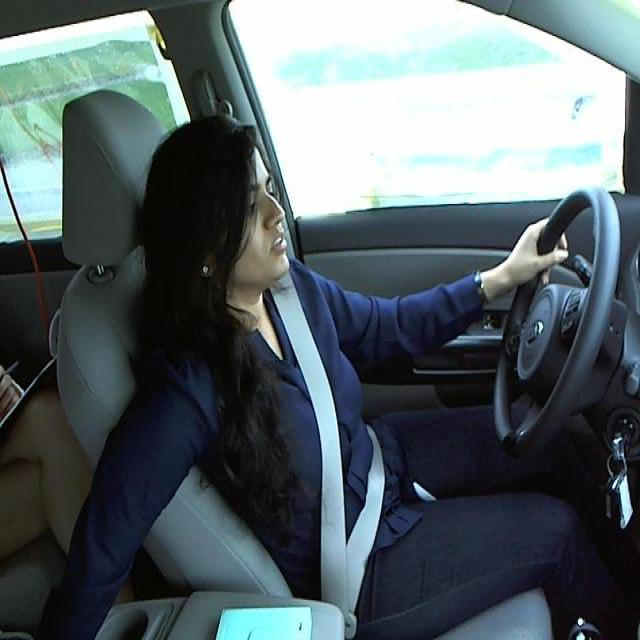seatbelt: (263, 279, 387, 608)
